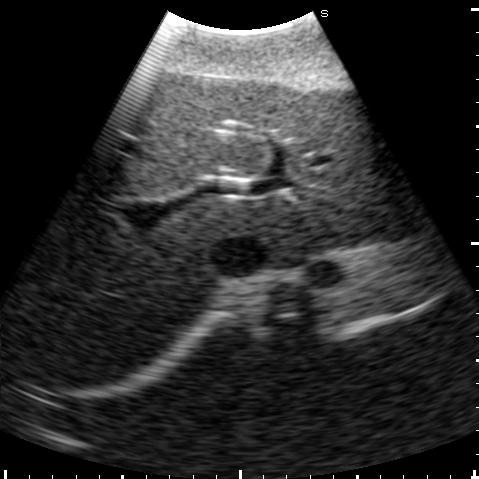IVC: (212, 236, 268, 278)
S1: (251, 198, 316, 257)
S2: (295, 192, 428, 249)
S3: (268, 88, 411, 205)
S4: (101, 74, 298, 197)
